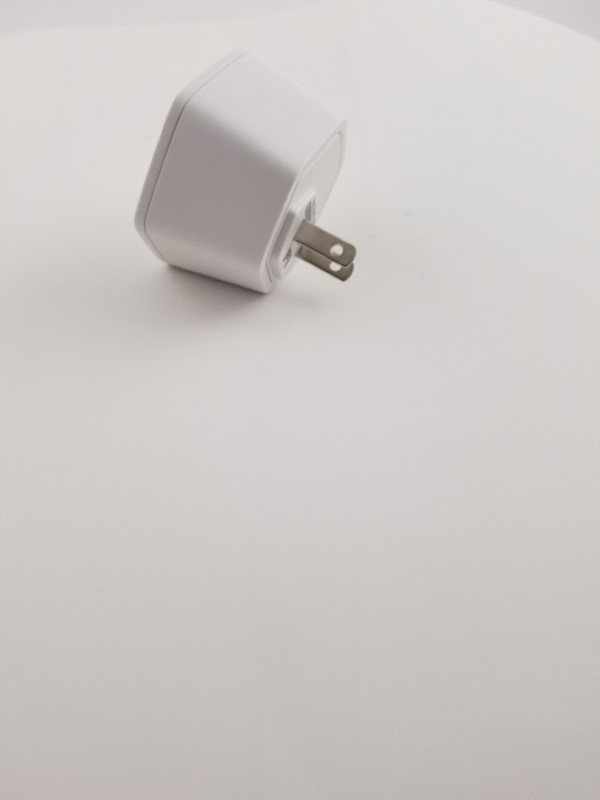pod: (129, 44, 372, 302)
